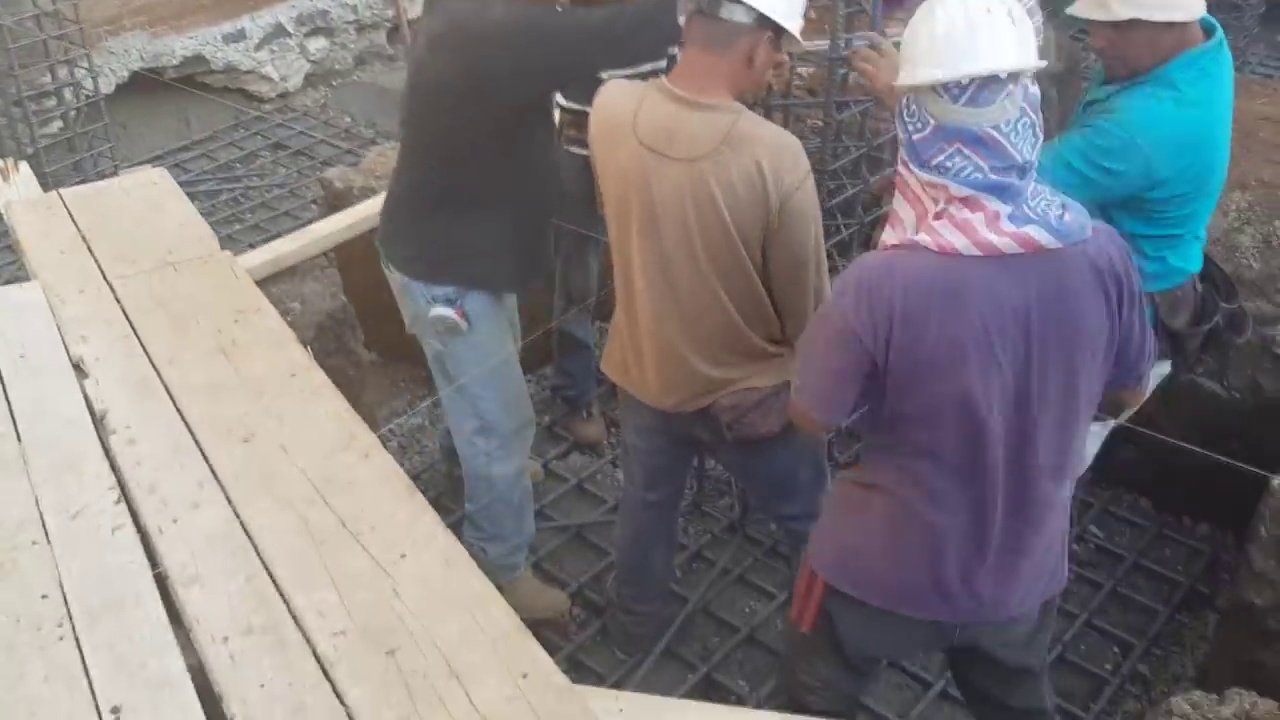helmet: (883, 3, 1056, 91), (714, 0, 809, 51)
helmet-off: (1061, 0, 1220, 89)
helmet-on: (885, 1, 1066, 222), (658, 4, 809, 109)
person: (790, 1, 1152, 720), (585, 4, 843, 658), (377, 0, 599, 652), (1034, 0, 1238, 336)
